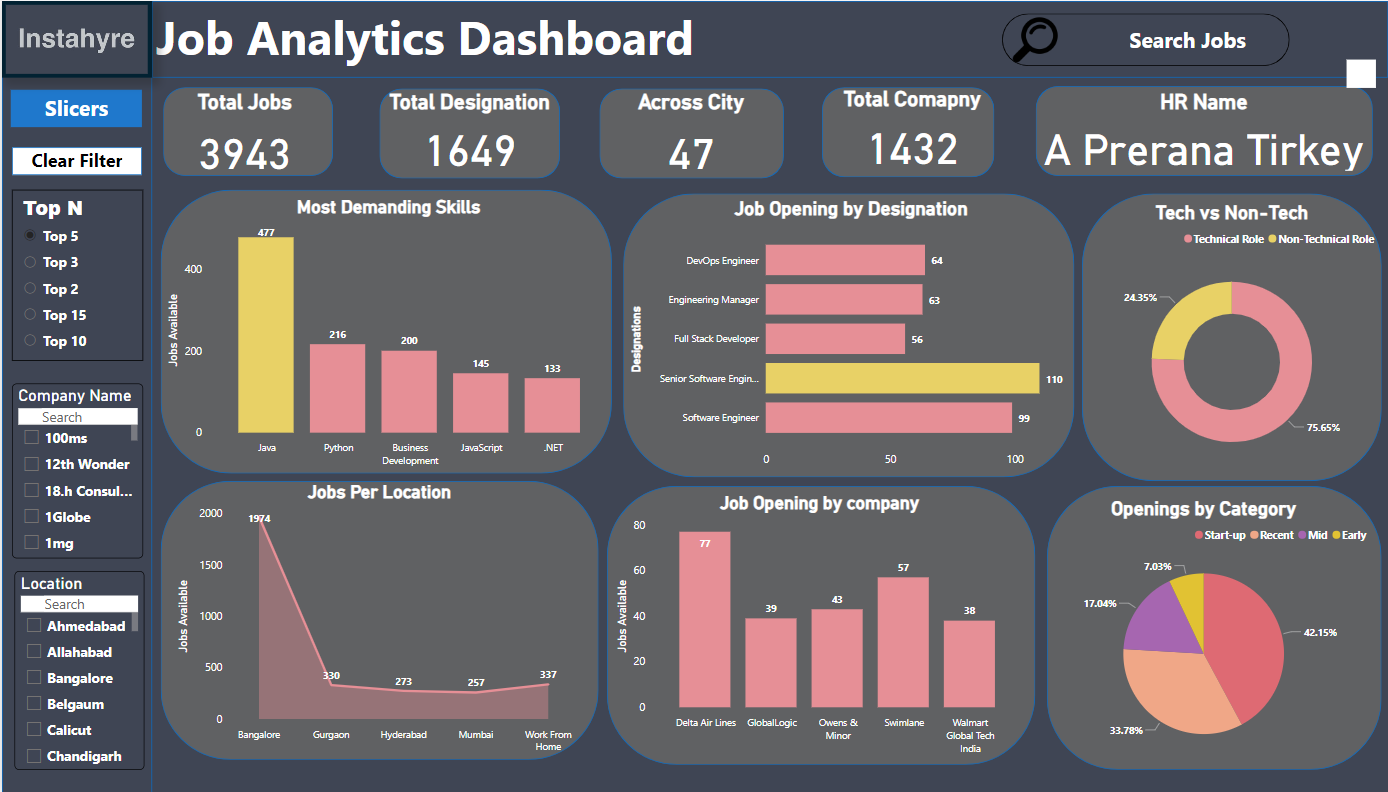

The page's visual inventory and layout, read from the dashboard file:
{"tool":"powerbi","page":{"name":"Dashboard","canvas":[1750,1000],"ordinal":1},"visuals":[{"type":"shape","box":[0,0,189.3,1000],"z":0},{"type":"shape","box":[1319.9,613.1,422.1,358.5],"z":1000},{"type":"shape","box":[763.8,613.1,541,351.8],"z":2000},{"type":"shape","box":[201,606.4,552.8,351.8],"z":3000},{"type":"shape","box":[1363.5,242.9,378.6,363.5],"z":4000},{"type":"shape","box":[783.9,242.9,569.5,358.5],"z":5000},{"type":"shape","box":[201,237.9,569.5,358.5],"z":6000},{"type":"shape","box":[1304.9,107.2,425.5,113.9],"z":7000},{"type":"shape","box":[1035.2,108.9,217.8,113.9],"z":8000},{"type":"shape","box":[753.8,110.6,232.8,113.9],"z":9000},{"type":"shape","box":[204.4,108.9,214.4,112.2],"z":10000},{"type":"shape","box":[477.4,110.6,227.8,113.9],"z":11000},{"type":"shape","box":[189.3,0,1561.1,97.2],"z":12000},{"type":"card","title":"Total Jobs","fields":{"Values":["job.Job_id"]},"box":[204.4,112.2,206,117.3],"z":13000},{"type":"card","title":"Total Designation","fields":{"Values":["job.Designation"]},"box":[477.4,112.2,227.8,110.6],"z":14000},{"type":"textbox","box":[11.7,112.2,165.8,46.9],"z":15000},{"type":"card","title":"Total Comapny","fields":{"Values":["company.Company_Name"]},"box":[1046.9,107.2,206,115.6],"z":16000},{"type":"textbox","box":[189.3,0,711.9,97.2],"z":17000},{"type":"card","title":"Across City","fields":{"Values":["job.Location"]},"box":[767.2,112.2,206,117.3],"z":18000},{"type":"shape","title":"Search Jobs","box":[1263.2,15.8,363.2,66.7],"z":19000},{"type":"card","title":"HR Name","fields":{"Values":["company.Hr_Name"]},"box":[1298.2,112.2,437.2,107.2],"z":20000},{"type":"image","box":[0,0,189.3,97.2],"z":21000},{"type":"textbox","box":[1393,24.6,207,57.9],"z":23000},{"type":"image","title":"Show","box":[1263.2,15.8,84.2,66.7],"z":24000},{"type":"slicer","fields":{"Values":["Table.Rank"]},"box":[13.4,237.9,165.8,216.1],"z":26000},{"type":"columnChart","title":"Most Demanding Skills","fields":{"Category":["job.Skill_1"],"Y":["TopN.Jobs by Skills"]},"box":[204.4,246.2,569.5,350.1],"z":27000},{"type":"barChart","title":"Job Opening by Designation","fields":{"Category":["job.Designation"],"Y":["TopN.jobs by Designation"]},"box":[787.3,247.9,569.5,350.1],"z":28000},{"type":"donutChart","title":"Tech vs Non-Tech","fields":{"Category":["job.Category"],"Y":["job.Job_id"]},"box":[1363.5,252.9,378.6,350.1],"z":29000},{"type":"columnChart","title":"Job Opening by company","fields":{"Category":["company.Company_Name"],"Y":["TopN.Jobs By company"]},"box":[770.5,619.8,524.3,338.4],"z":30000},{"type":"areaChart","title":"Jobs Per Location","fields":{"Category":["job.Location"],"Y":["TopN.Jobs By Location"]},"box":[216.1,606.4,520.9,351.8],"z":31000},{"type":"slicer","title":"Company Name","fields":{"Values":["company.Company_Name"]},"box":[13.4,482.4,165.8,221.1],"z":32000},{"type":"pieChart","title":"Openings by Category","fields":{"Category":["company.company cat"],"Y":["job.Job_id"]},"box":[1301.5,626.5,430.5,338.4],"z":33000},{"type":"shape","box":[13.4,184.3,164.2,35.2],"z":33500},{"type":"slicer","title":"Location","fields":{"Values":["job.Location"]},"box":[15.1,720.3,164.2,251.3],"z":33501}]}

Visuals, with their boxes in screenshot pixels (x1, y1, x2, y2), scaled from the page's 1750x1000 canvas onto the 1388x792 screenshot:
shape: <region>0, 0, 150, 791</region>
shape: <region>1047, 486, 1382, 770</region>
shape: <region>606, 486, 1035, 764</region>
shape: <region>159, 480, 598, 759</region>
shape: <region>1081, 192, 1382, 480</region>
shape: <region>622, 192, 1073, 476</region>
shape: <region>159, 188, 611, 472</region>
shape: <region>1035, 85, 1372, 175</region>
shape: <region>821, 86, 994, 176</region>
shape: <region>598, 88, 783, 178</region>
shape: <region>162, 86, 332, 175</region>
shape: <region>379, 88, 559, 178</region>
shape: <region>150, 0, 1387, 77</region>
"Total Jobs" card: <region>162, 89, 326, 182</region>
"Total Designation" card: <region>379, 89, 559, 176</region>
textbox: <region>9, 89, 141, 126</region>
"Total Comapny" card: <region>830, 85, 994, 176</region>
textbox: <region>150, 0, 715, 77</region>
"Across City" card: <region>608, 89, 772, 182</region>
"Search Jobs" shape: <region>1002, 13, 1290, 65</region>
"HR Name" card: <region>1030, 89, 1376, 174</region>
image: <region>0, 0, 150, 77</region>
textbox: <region>1105, 19, 1269, 65</region>
"Show" image: <region>1002, 13, 1069, 65</region>
slicer - Table.Rank: <region>11, 188, 142, 360</region>
"Most Demanding Skills" columnChart: <region>162, 195, 614, 472</region>
"Job Opening by Designation" barChart: <region>624, 196, 1076, 474</region>
"Tech vs Non-Tech" donutChart: <region>1081, 200, 1382, 478</region>
"Job Opening by company" columnChart: <region>611, 491, 1027, 759</region>
"Jobs Per Location" areaChart: <region>171, 480, 585, 759</region>
"Company Name" slicer: <region>11, 382, 142, 557</region>
"Openings by Category" pieChart: <region>1032, 496, 1374, 764</region>
shape: <region>11, 146, 141, 174</region>
"Location" slicer: <region>12, 570, 142, 770</region>
